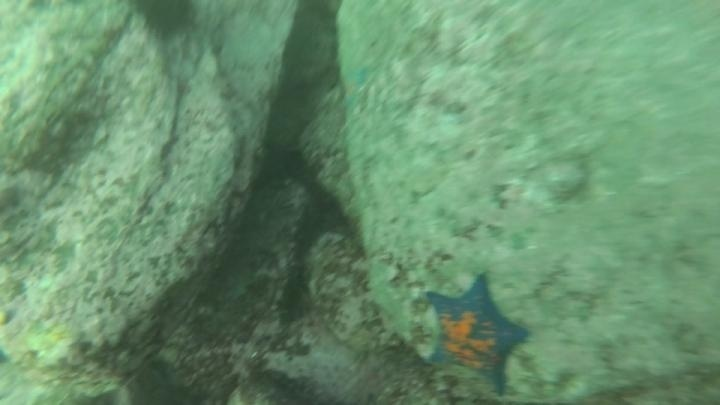echinus: (125, 1, 202, 43)
starfish: (416, 271, 534, 400), (337, 61, 374, 114)
